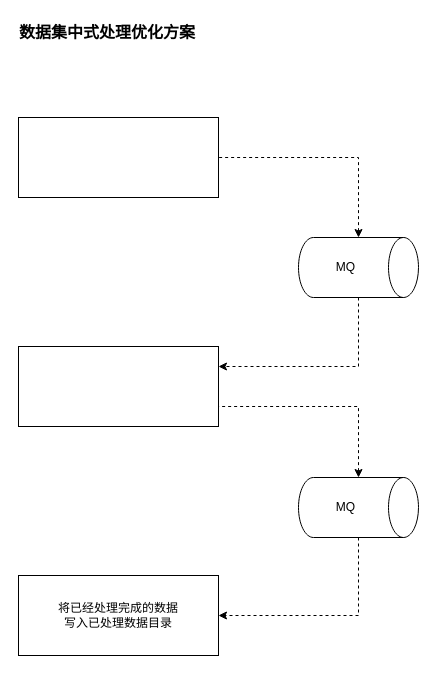
The diagram is 436 pixels wide and 673 high, and some of its shapes have lost their labels. Here are the shapes that lost their labels. From the top down, the box of each, then its label:
(18, 116, 218, 198): 读取待处理数据目录 中的数据文件
(18, 346, 218, 426): 数据处理
